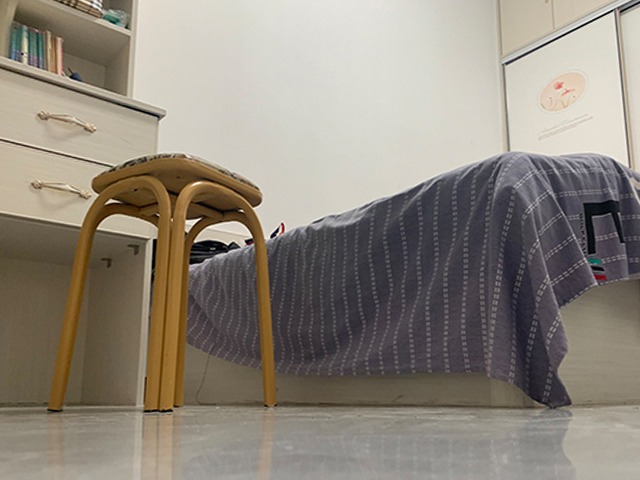bed: (181, 151, 640, 411)
table: (1, 46, 171, 409), (47, 152, 276, 413)
